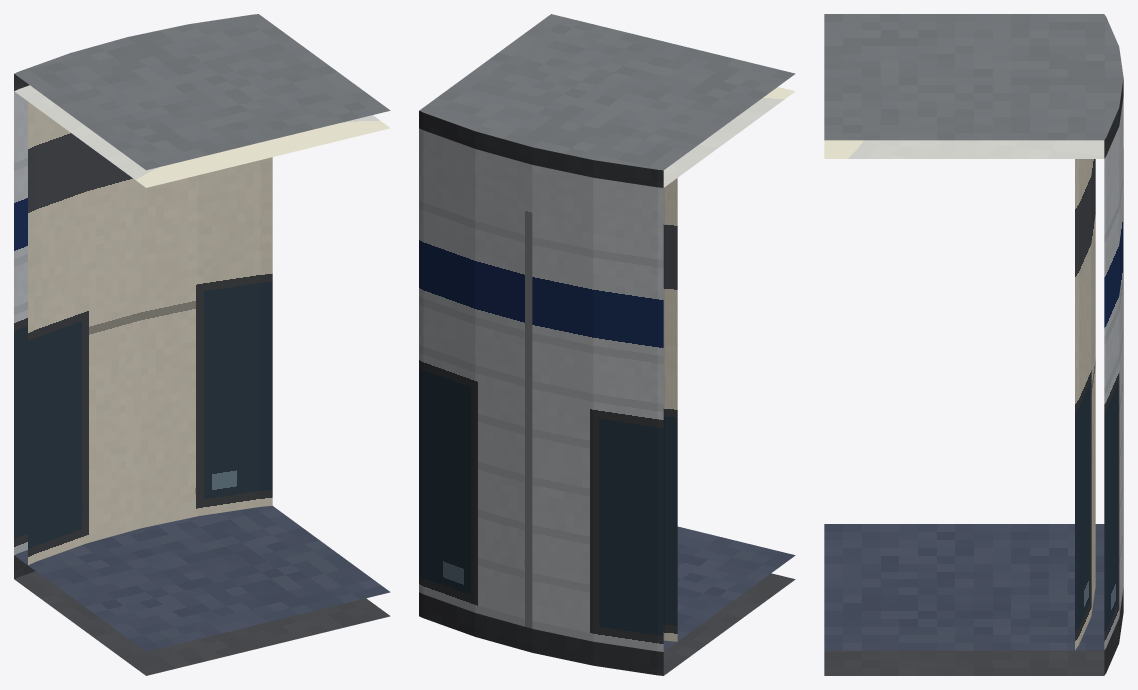
File: airport_jet_bridge_uturn_c2.obj
3 views of the same model, side by side, from view 1: azimuth 30°, elevation 25°; view 2: azimuth 150°, elevation 25°; view 3: azimuth 270°, elevation 25° (orthographic). The views are drawn at different scales.
Visible parts, largest first — view 1: airport_jet_bridge_uturn_c2; view 2: airport_jet_bridge_uturn_c2; view 3: airport_jet_bridge_uturn_c2.
Boxes of the visible parts, <box> form: airport_jet_bridge_uturn_c2: <box>14,14,390,675</box>; airport_jet_bridge_uturn_c2: <box>419,14,795,675</box>; airport_jet_bridge_uturn_c2: <box>824,14,1123,675</box>.
Size of the model in its own units: 1 by 1.98 by 1.
